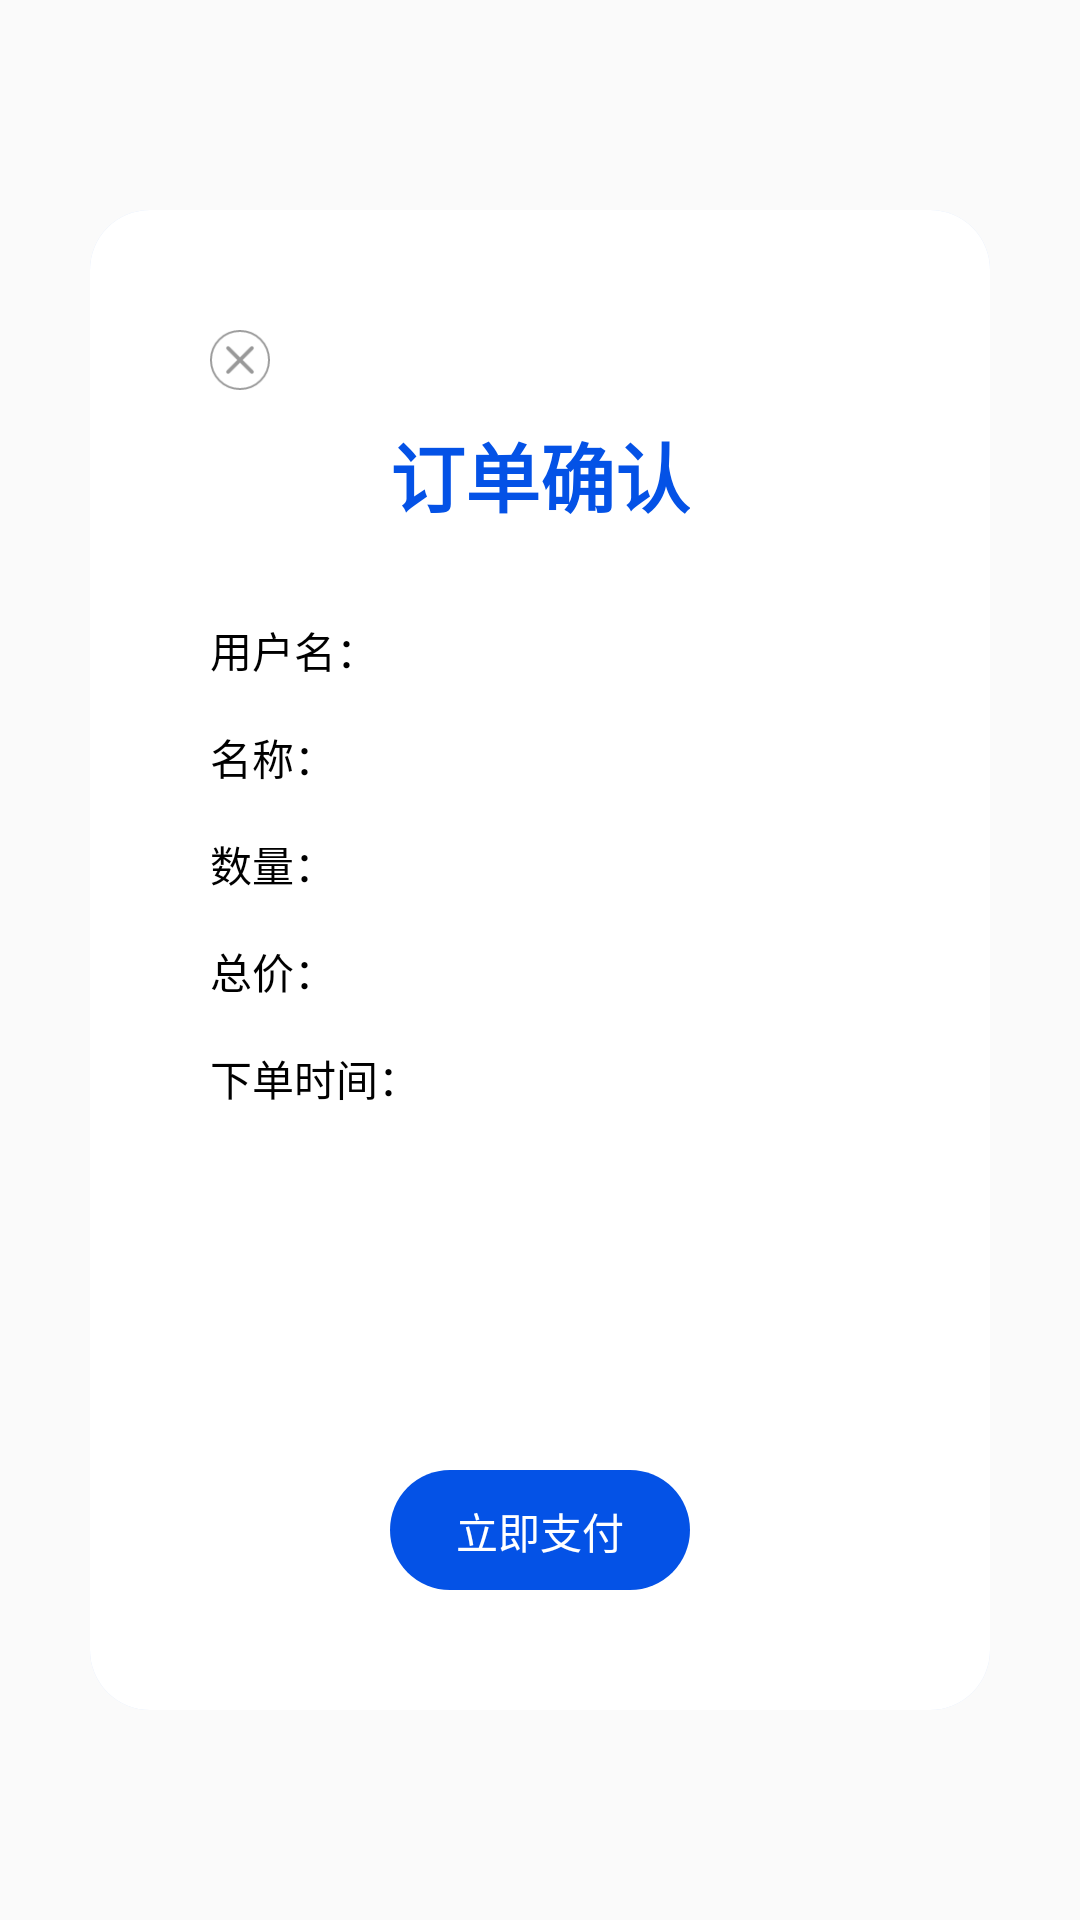

Where to tap for icons on this 1080 × 1920 app screen, as point (x, y):
close: point (240, 360)
